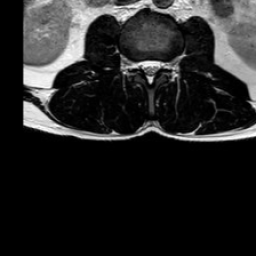CCS_normal: (145, 50, 153, 90)
LFS_normal: (161, 51, 171, 77)
LLS_normal: (153, 50, 161, 81)
RFS_normal: (129, 50, 137, 76)
RLS_normal: (137, 51, 145, 77)
